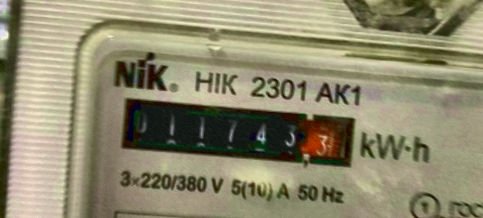0: (133, 107, 149, 136)
1: (194, 111, 208, 140), (165, 109, 177, 137)
3: (282, 121, 298, 149), (313, 132, 329, 158)
4: (253, 119, 268, 147)
7: (223, 113, 240, 142)
screen: (109, 86, 367, 179)
